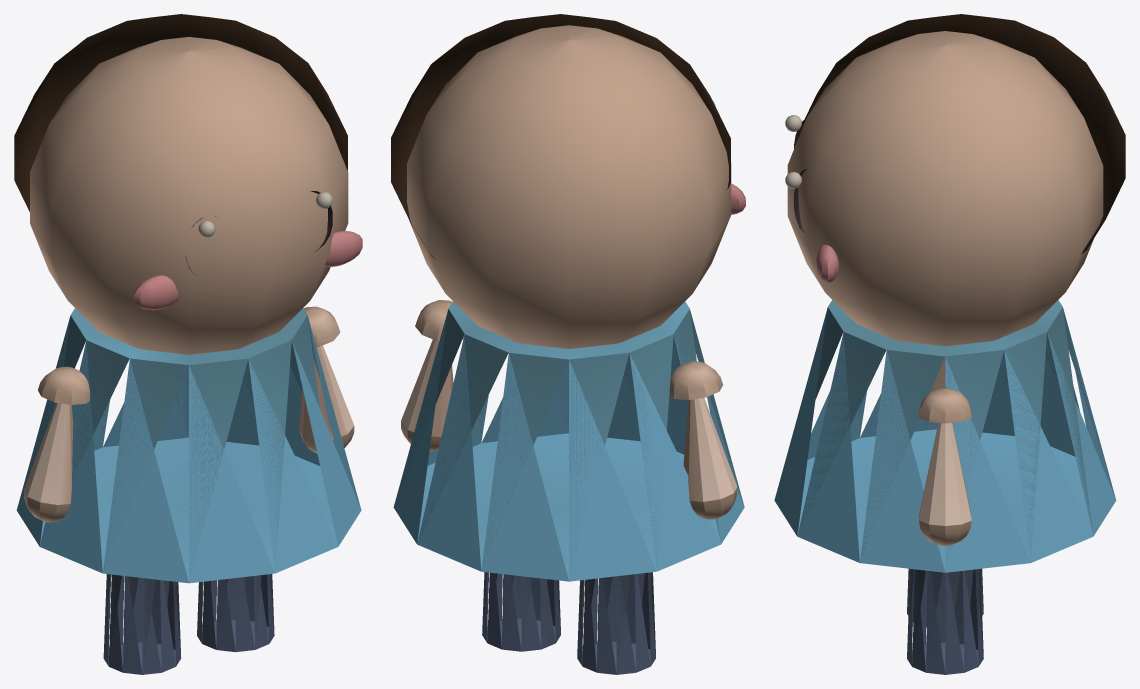
Rendered from pfa7e63ad.glb.
The picture shows the model from 3 angles, left to right: view 1: azimuth 30°, elevation 25°; view 2: azimuth 150°, elevation 25°; view 3: azimuth 270°, elevation 25°; orthographic projection. The views are drawn at different scales.
Parts seen in each view (by area): view 1: pet_pfa7e63ad; view 2: pet_pfa7e63ad; view 3: pet_pfa7e63ad.
Boxes of the visible parts, x1,y1,x2,y2 form: pet_pfa7e63ad: (14,14,362,674); pet_pfa7e63ad: (391,14,745,674); pet_pfa7e63ad: (774,14,1125,674).
Bounding box in the file's own units: 0.2944 × 0.5313 × 0.2793.
